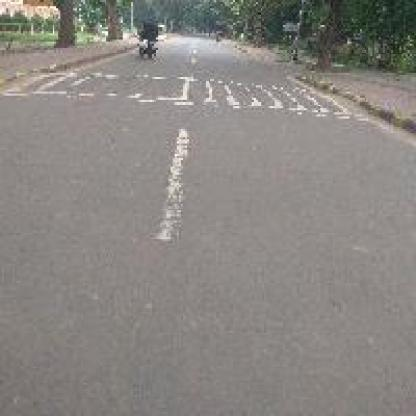Speed Bump: (0, 66, 368, 121)
